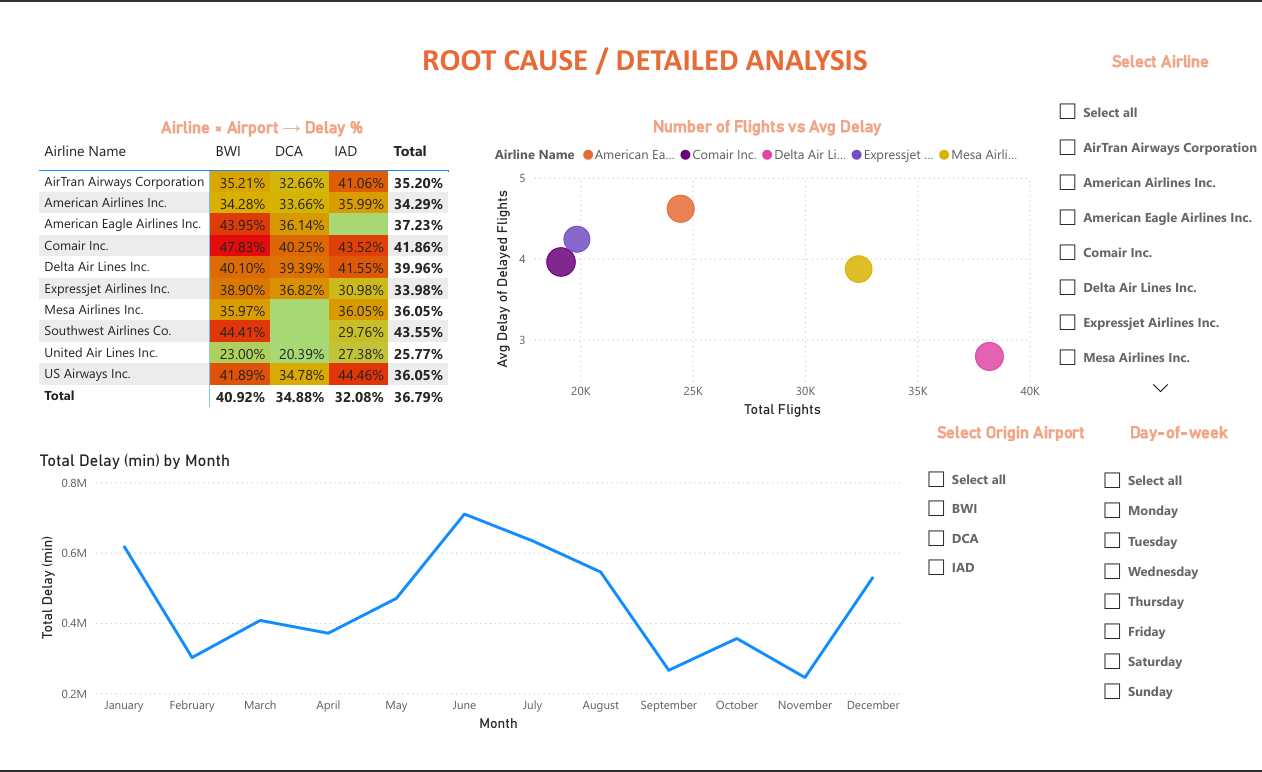

This screenshot's page, from the dashboard's own definition file:
{"tool":"powerbi","page":{"name":"Root Cause/ Detailed Analysis","canvas":[1280,720],"ordinal":4},"visuals":[{"type":"textbox","box":[338.6,0,603.2,58.4],"z":0},{"type":"pivotTable","title":"Airline × Airport → Delay %","fields":{"Values":["FactFlights.Delay %"],"Rows":["dimAirline.Airline Name"],"Columns":["dimAirport.Origin Airport"]},"box":[13,83,468.3,313.9],"z":4000},{"type":"scatterChart","title":"Number of Flights vs Avg Delay","fields":{"Y":["FactFlights.Avg Delay of Delayed Flights"],"Size":["FactFlights.Delay %"],"X":["FactFlights.Total Flights"],"Series":["dimAirline.Airline Name"]},"box":[481.3,83,569.5,313.9],"z":4001},{"type":"lineChart","fields":{"Category":["FactFlights.Month"],"Y":["FactFlights.Total Delay (min)"]},"box":[13,425.5,897.7,294.5],"z":4002},{"type":"listSlicer","title":"Select Origin Airport","fields":{"Values":["dimAirport.Origin Airport"]},"box":[926.3,397,180.3,313.9],"z":4003},{"type":"listSlicer","title":"Day-of-week","fields":{"Values":["FactFlights.Day of Week"]},"box":[1106.6,397,164.8,323],"z":4004},{"type":"listSlicer","title":"Select Airline","fields":{"Values":["dimAirline.Airline Name"]},"box":[1061.2,15.6,219.2,361.9],"z":4005}]}

Visuals, with their boxes on the page's 1280x720 design canvas (x1, y1, x2, y2). These are canvas units, not pixel positions in the 1262x772 screenshot, which may show the page scaled, cropped or inside an application window:
textbox: 339, 0, 942, 58
"Airline × Airport → Delay %" pivotTable: 13, 83, 481, 397
"Number of Flights vs Avg Delay" scatterChart: 481, 83, 1051, 397
lineChart - FactFlights.Month x FactFlights.Total Delay (min): 13, 426, 911, 720
"Select Origin Airport" listSlicer: 926, 397, 1107, 711
"Day-of-week" listSlicer: 1107, 397, 1271, 720
"Select Airline" listSlicer: 1061, 16, 1280, 378
